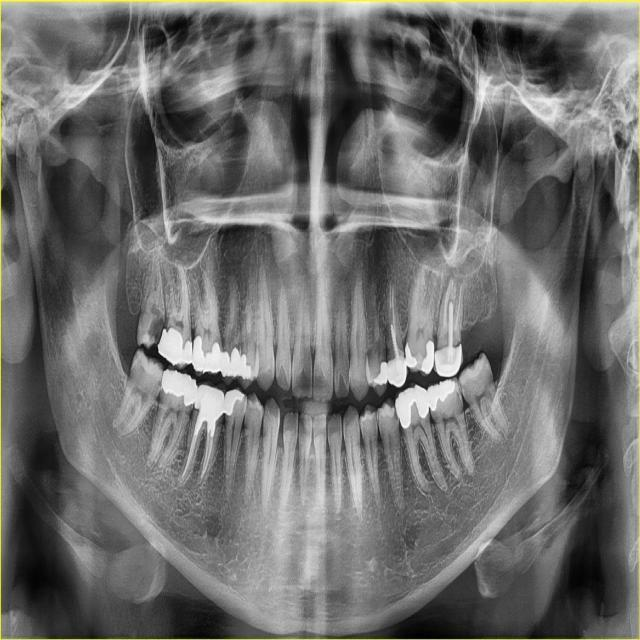Caries: (146, 312, 164, 346), (459, 380, 467, 394), (185, 402, 193, 416), (159, 387, 165, 405), (456, 386, 461, 399), (394, 406, 398, 420), (158, 376, 161, 388)
Crown: (194, 379, 226, 415), (434, 343, 463, 377), (387, 355, 408, 389)
Filling: (395, 384, 429, 429), (161, 371, 198, 407), (158, 328, 193, 363), (191, 335, 223, 372), (193, 396, 219, 438), (405, 339, 435, 374), (427, 379, 455, 412), (220, 348, 240, 378), (224, 389, 244, 415), (237, 354, 251, 379), (374, 362, 387, 385)
Root Canal Treatment: (182, 432, 197, 477), (201, 432, 214, 479), (444, 275, 453, 328), (454, 284, 461, 331), (393, 287, 396, 334), (389, 282, 391, 307)
